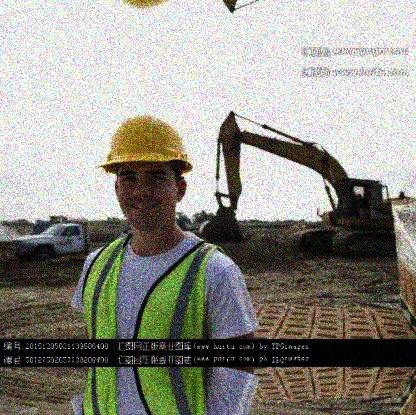helmet: (96, 116, 193, 231)
